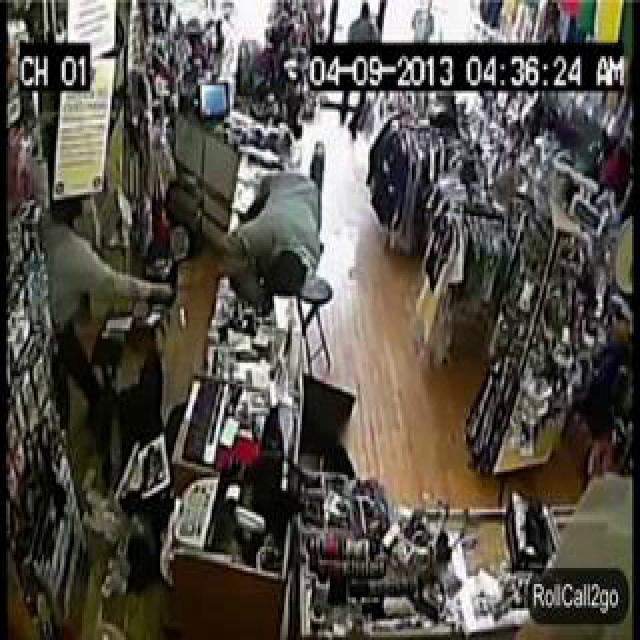robbery: (175, 55, 349, 508)
